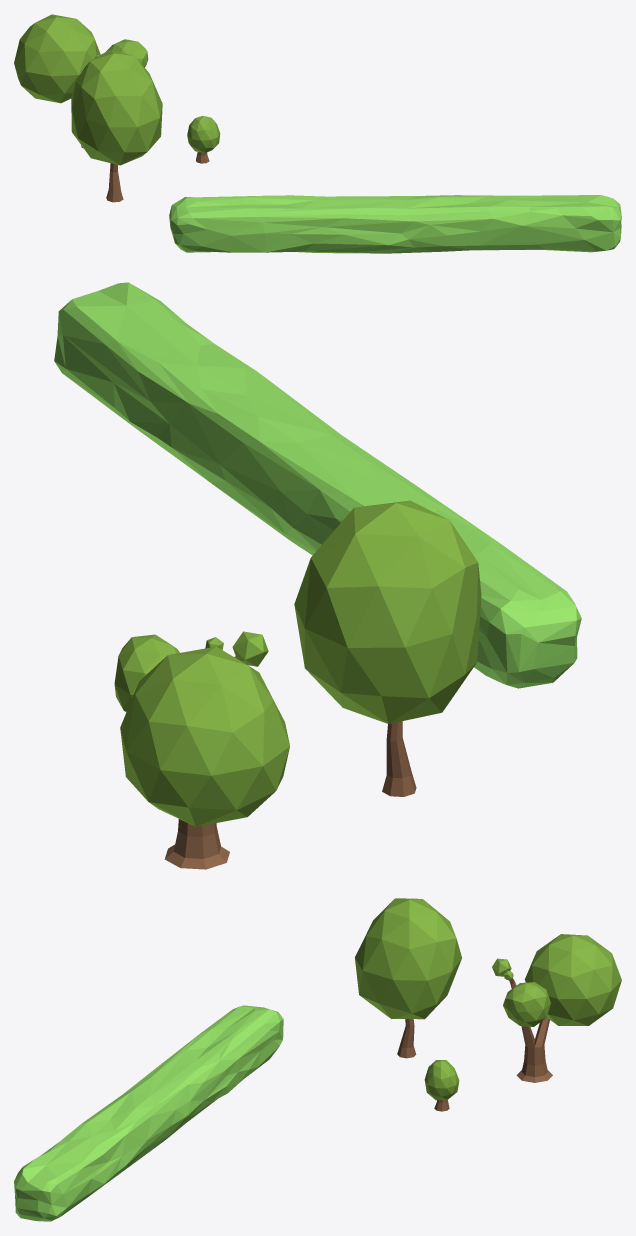
The model's file is Plants.fbx.
The picture shows the model from 3 angles, top to bottom: view 1: azimuth 30°, elevation 25°; view 2: azimuth 150°, elevation 25°; view 3: azimuth 270°, elevation 25°; orthographic projection. The views are drawn at different scales.
Visible parts, largest first — view 1: 立方体.139, 柱体.050, 柱体.049, 柱体.048; view 2: 立方体.139, 柱体.050, 柱体.049; view 3: 立方体.139, 柱体.050, 柱体.049, 柱体.048.
Part boxes in pixels (left/top/right/bottom): 立方体.139: left=169, top=195, right=621, bottom=253; 柱体.050: left=71, top=50, right=162, bottom=202; 柱体.049: left=14, top=14, right=148, bottom=147; 柱体.048: left=187, top=116, right=220, bottom=163; 立方体.139: left=54, top=282, right=581, bottom=688; 柱体.050: left=294, top=500, right=481, bottom=796; 柱体.049: left=114, top=631, right=289, bottom=869; 立方体.139: left=14, top=1005, right=283, bottom=1221; 柱体.050: left=355, top=898, right=461, bottom=1058; 柱体.049: left=492, top=934, right=621, bottom=1082; 柱体.048: left=424, top=1060, right=459, bottom=1111.
Size of the model in its own units: 2316 by 3050 by 857.
